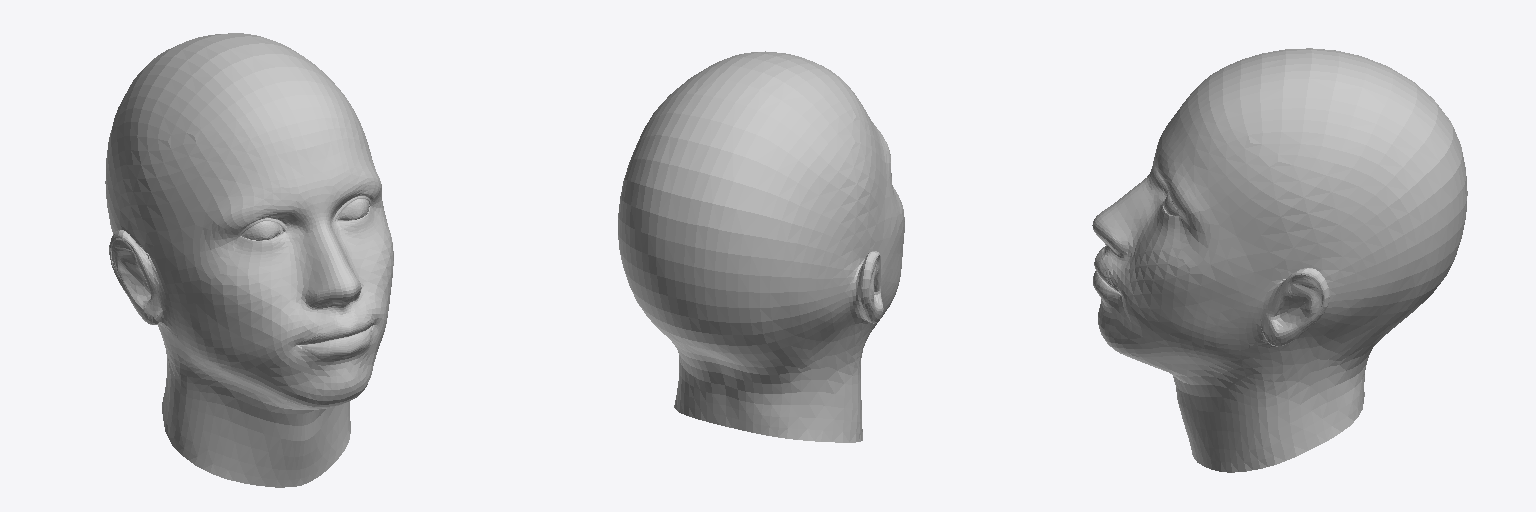
3 renders of one model, left to right at view 1: azimuth 30°, elevation 25°; view 2: azimuth 150°, elevation 25°; view 3: azimuth 270°, elevation 25°, orthographic.
Parts seen in each view (by area): view 1: FaceGen; view 2: FaceGen; view 3: FaceGen.
Boxes of the visible parts, x1=… form: FaceGen: x1=105, y1=33, x2=393, y2=487; FaceGen: x1=618, y1=51, x2=904, y2=442; FaceGen: x1=1092, y1=48, x2=1467, y2=472.
Size of the model in its own units: 186 by 284 by 244.